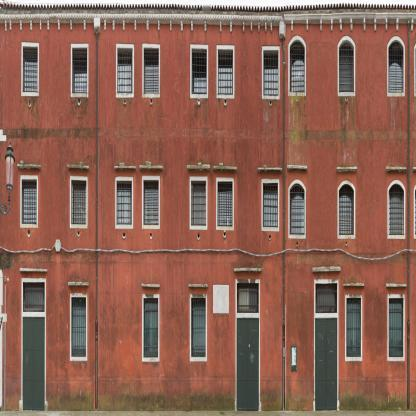Building Outline: (0, 0, 416, 412)
Door: (315, 318, 337, 411), (23, 318, 45, 411), (237, 318, 259, 411)
Facade: (0, 0, 416, 412)
Floor: (1, 162, 416, 253)
Floor Slab: (1, 149, 416, 163), (1, 255, 416, 268)
Ground Floor: (1, 267, 416, 411)
Molding: (0, 14, 416, 32)
Sill: (139, 160, 163, 171), (17, 161, 41, 170), (213, 163, 237, 172), (187, 162, 210, 171), (312, 266, 341, 273), (114, 162, 136, 171), (258, 165, 282, 173), (67, 162, 89, 170), (234, 267, 261, 273), (386, 166, 407, 173), (287, 165, 307, 172), (336, 166, 357, 172), (20, 268, 47, 272), (68, 282, 89, 287), (188, 284, 208, 289), (141, 283, 160, 288), (343, 283, 365, 287), (386, 283, 407, 287)
Top Floor: (1, 32, 416, 149)
Window: (346, 297, 361, 357), (191, 298, 206, 357), (71, 298, 86, 357), (389, 297, 403, 357), (388, 40, 404, 92), (144, 298, 158, 357), (389, 183, 404, 235), (290, 40, 305, 92), (290, 183, 305, 235), (339, 183, 354, 235), (339, 40, 354, 92), (23, 47, 38, 92), (22, 179, 37, 224), (72, 180, 87, 225), (192, 49, 207, 94), (117, 180, 132, 225), (144, 180, 159, 225), (191, 181, 206, 226), (218, 181, 233, 226), (264, 50, 279, 95), (72, 48, 87, 92), (144, 48, 159, 92), (118, 48, 133, 92), (218, 50, 233, 94), (23, 282, 45, 312), (237, 283, 259, 313), (263, 184, 278, 228), (316, 283, 337, 313)
